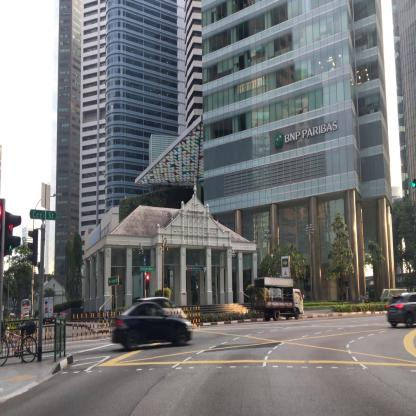red_traffic_light: (146, 274, 148, 288)
